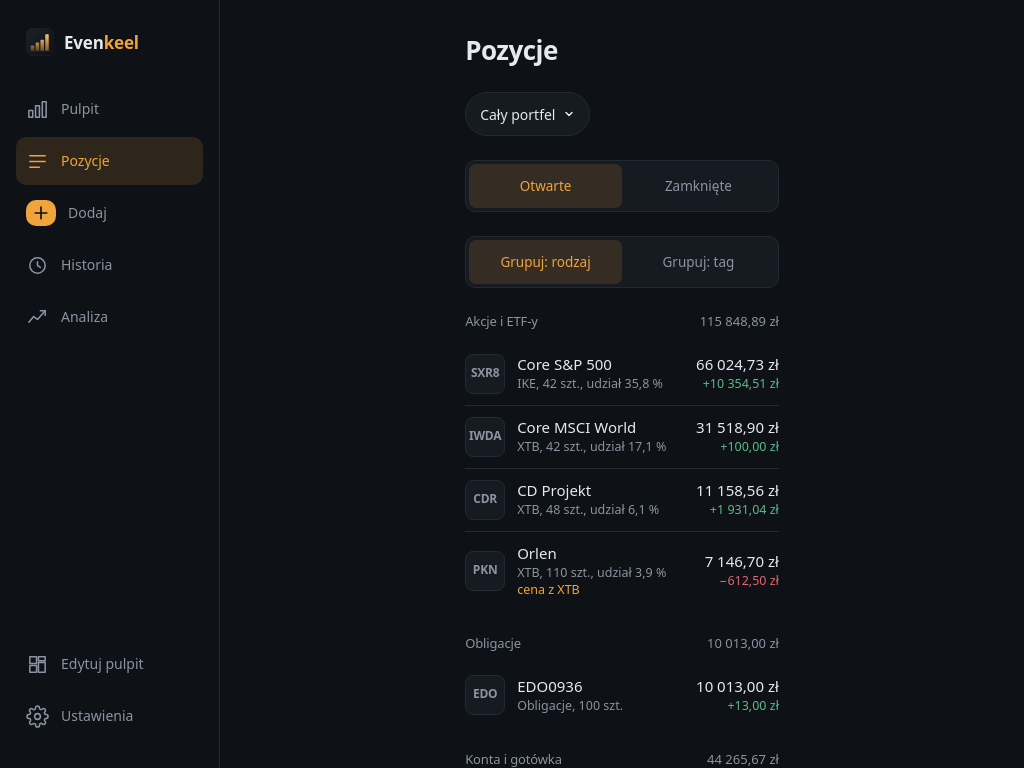
closed investments › switches Pozycje to the closed view with totals and one row per instrument and account
The image size is (1024, 768).
Step 1. Click the button "Zamknięte" → (698, 186), box [622,164,775,208]
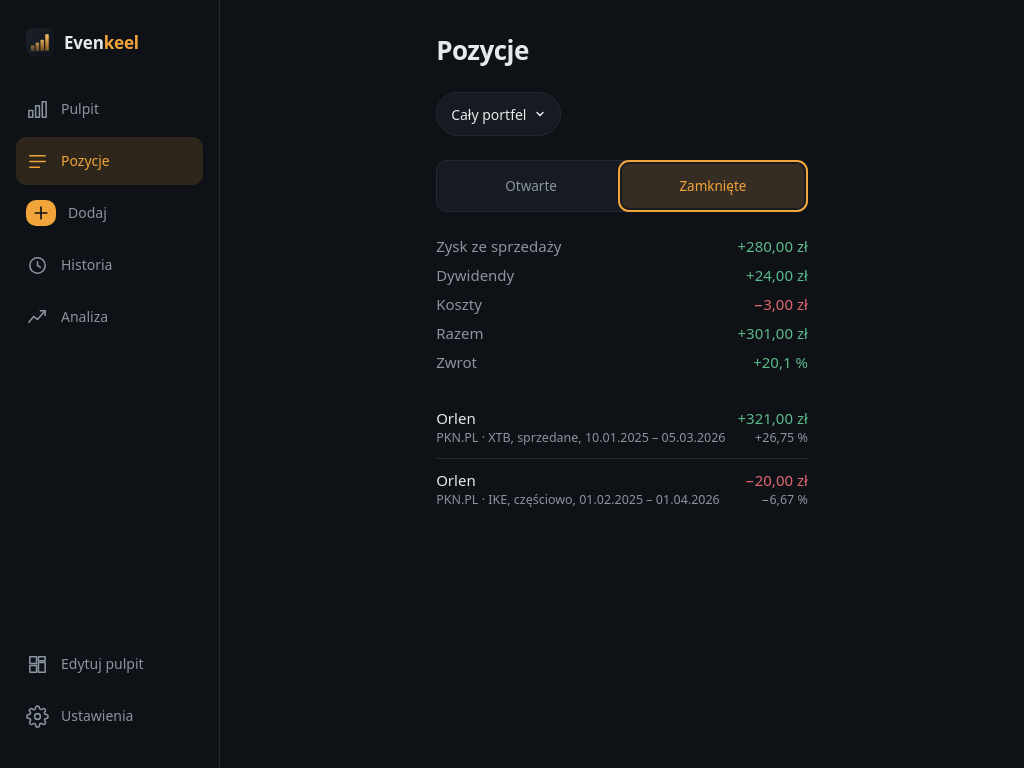
Now the text "+20,1 %" is shown, box [753,352,808,372]
Now the text "PKN.PL · XTB, sprzedane, 10.01.2025 – 05.03.2026" is shown, box [436,429,726,447]
